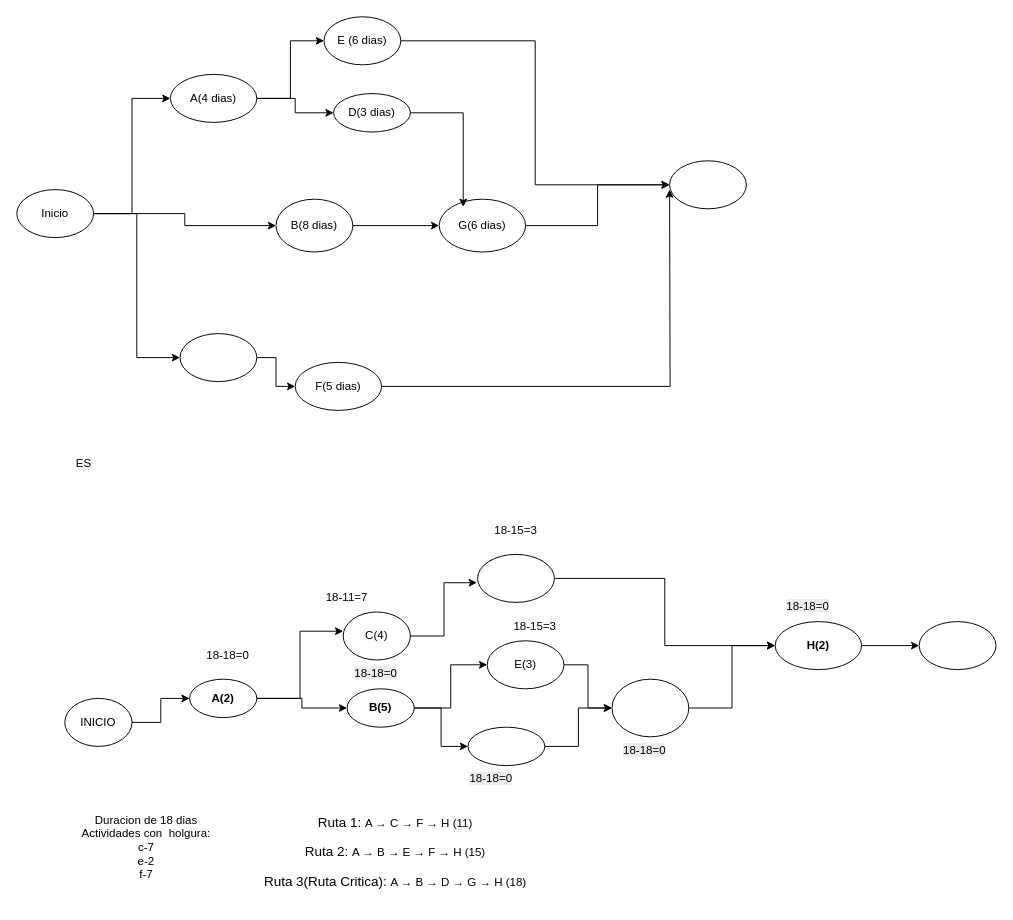
Some shapes in this 1013 by 920 pixel diagram are drawn without their labels. The centre of each missing label's shape, as x and y in pixels:
"C(3 dias)" belongs at (218,357).
"D(5)" belongs at (506,746).
"F(3)" belongs at (515,577).
"FIN" belongs at (957,645).
"Final" belongs at (707,184).
"G(4)" belongs at (650,707).
